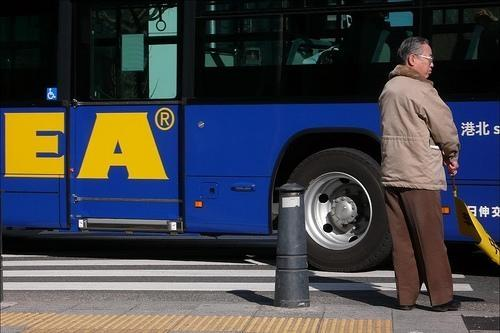bus: (0, 1, 500, 274)
